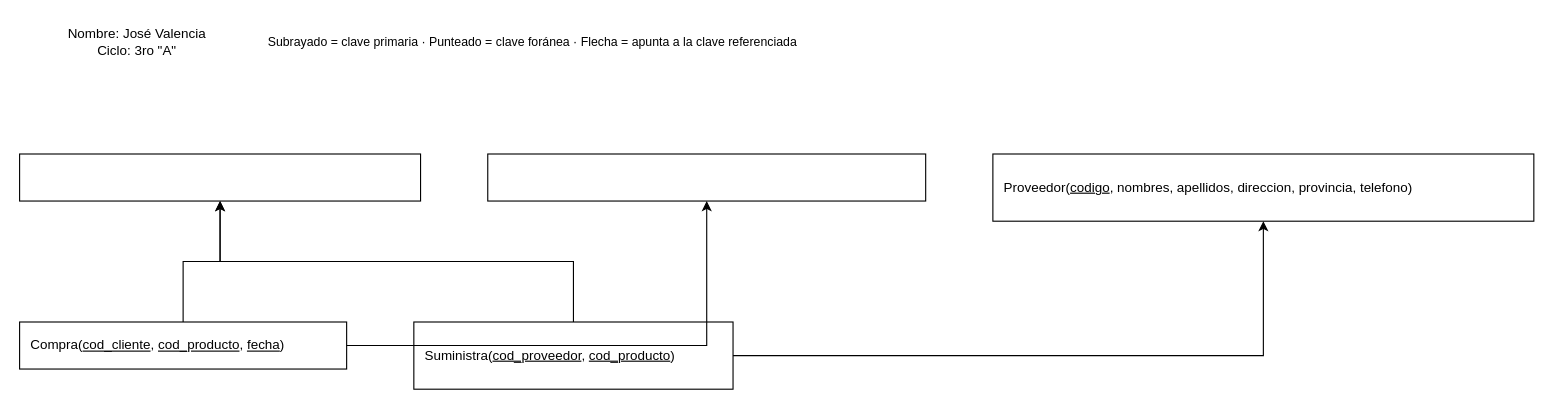
This 1553x409 diagram has some shape labels left out. Here are the shapes that lost their labels. From the top down, the centre of each, then its label:
At [219,177]: "Producto( codigo , descripcion, precio, existencias)".
At [706,177]: "Cliente( codigo , nombre, apellidos, direccion, telefono)".
